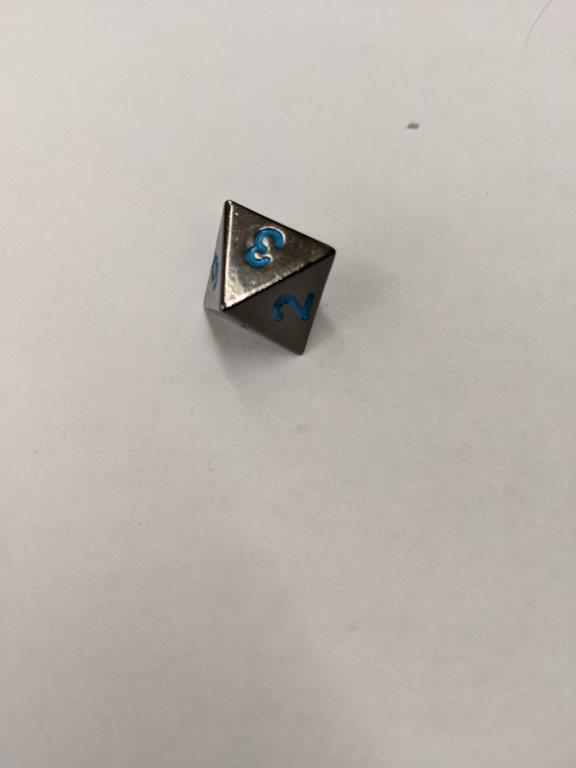d8-3: (200, 201, 336, 358)
